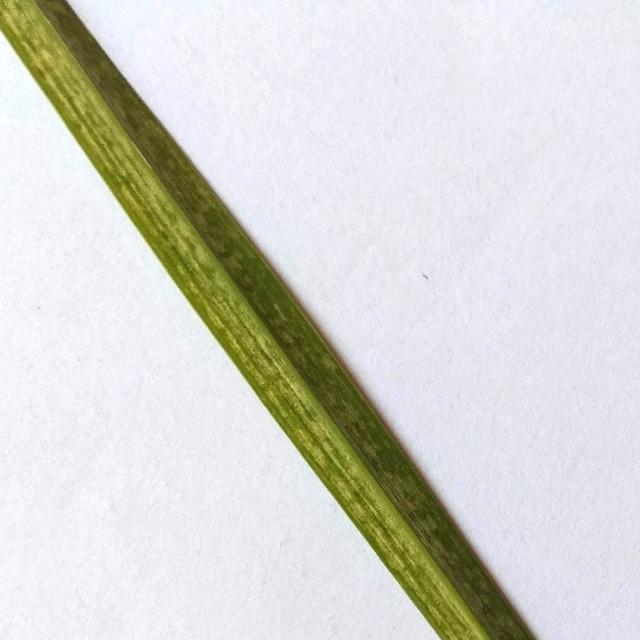Rice_Healthy: (0, 0, 536, 640)
